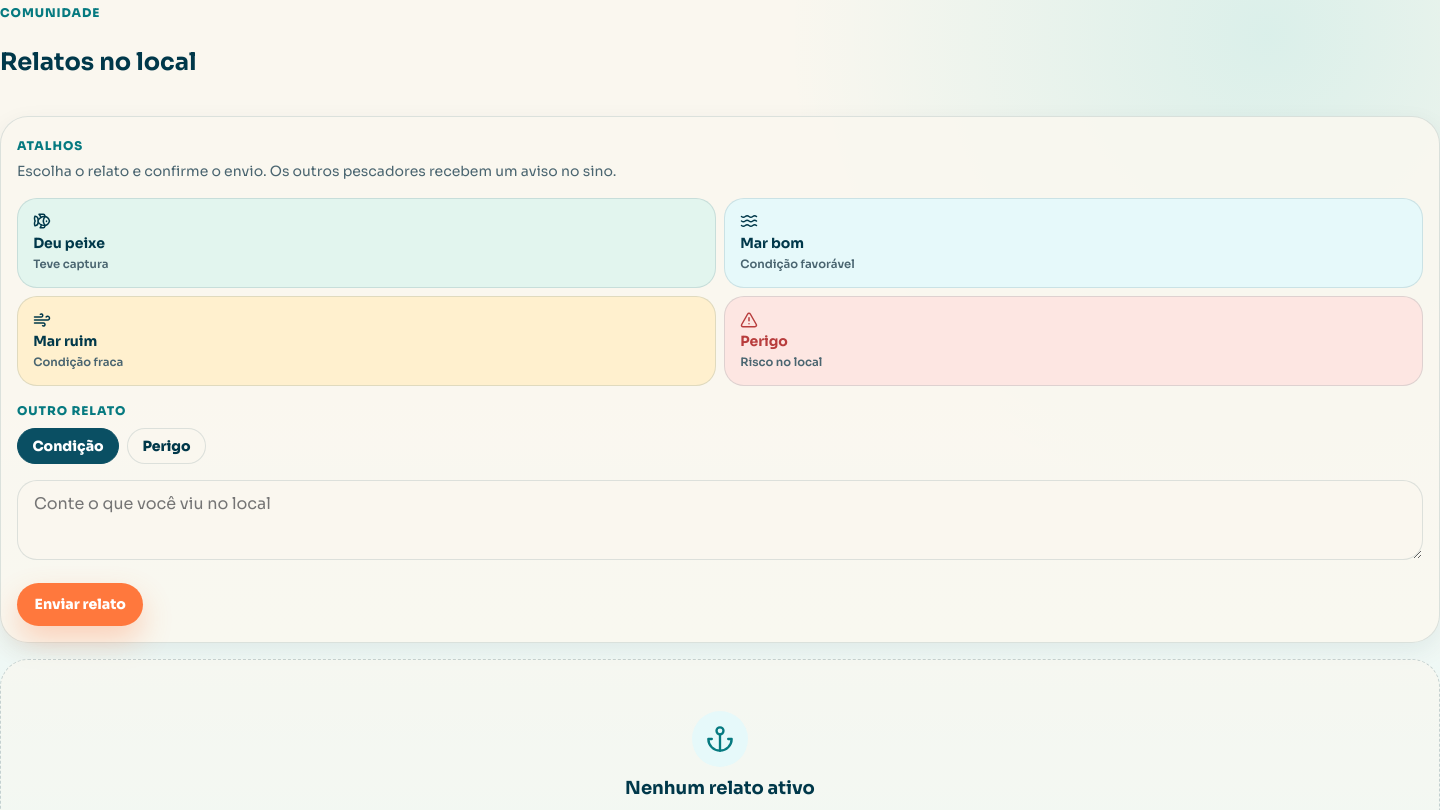
Test case: CommunityReports › cancela o envio sem publicar o relato
Step 1. Click the button with aria-label "Relatar Mar ruim" → (65, 341), box [17,296,716,386]
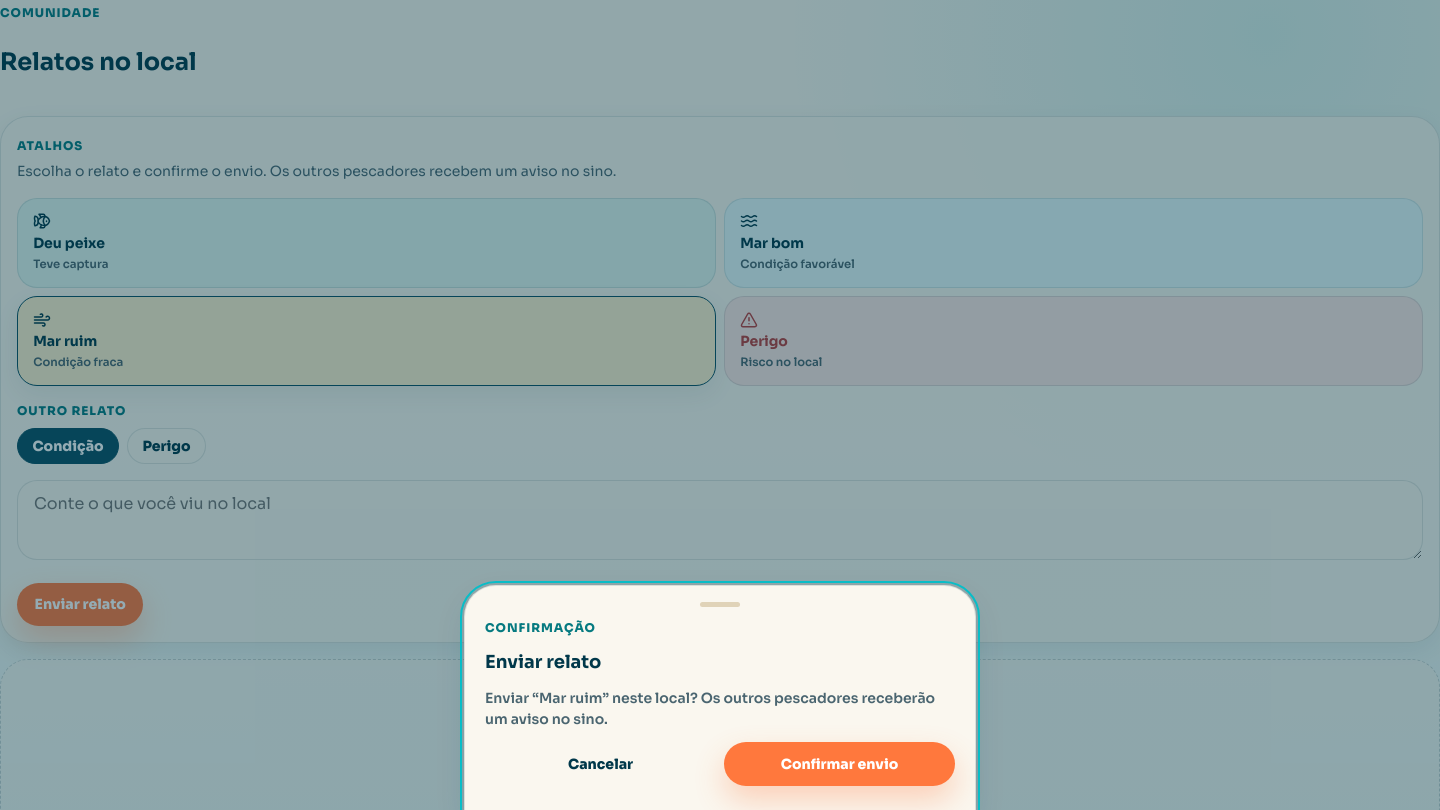
Now the dialog "Enviar relato" is shown, box [464,585,976,809]
Step 2. Click the button "Cancelar" → (600, 764), box [485,742,716,786]
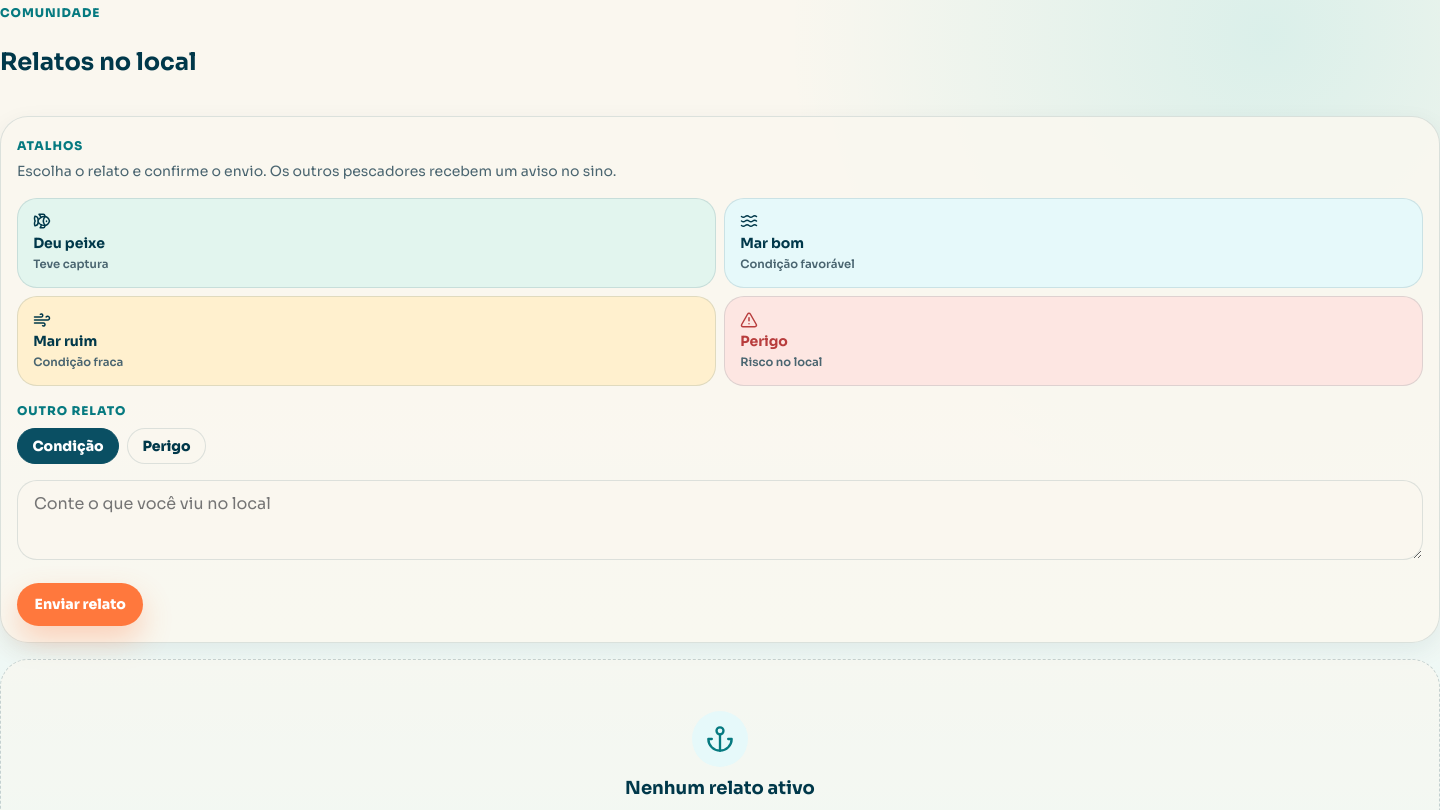
Expected: the button "Enviar relato" is shown, [17,583,143,626]
Now the button "Confirmar envio" is gone
